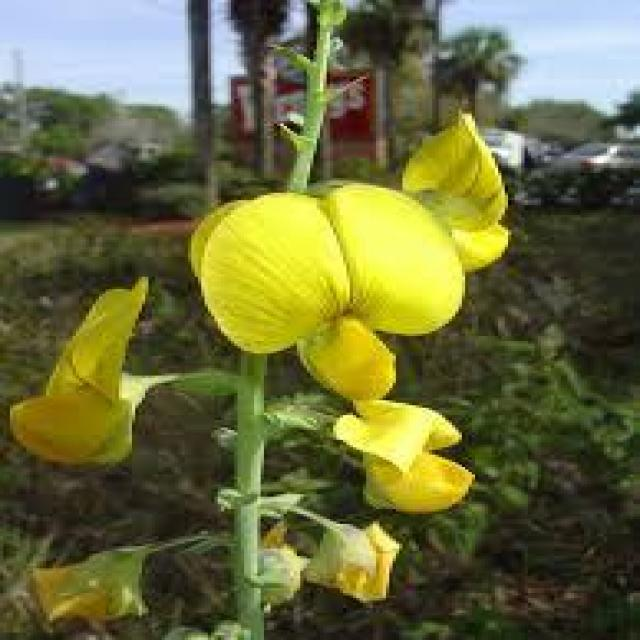organic waste: (186, 174, 474, 399), (25, 261, 150, 468), (384, 108, 523, 282), (332, 394, 486, 501), (296, 513, 418, 614)
